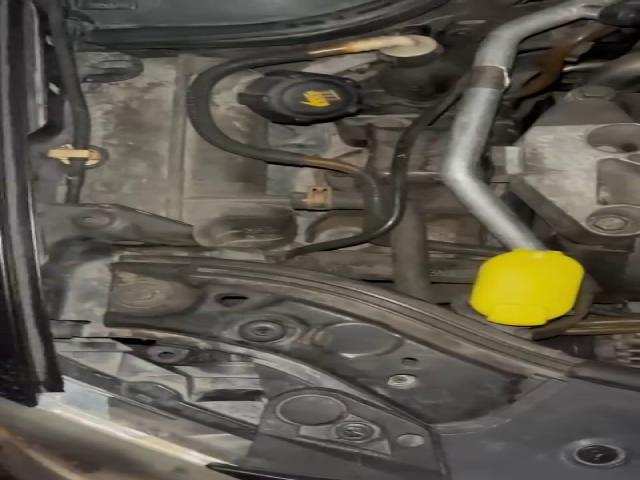antifreeze_tank: (86, 55, 296, 248), (214, 69, 360, 149)
